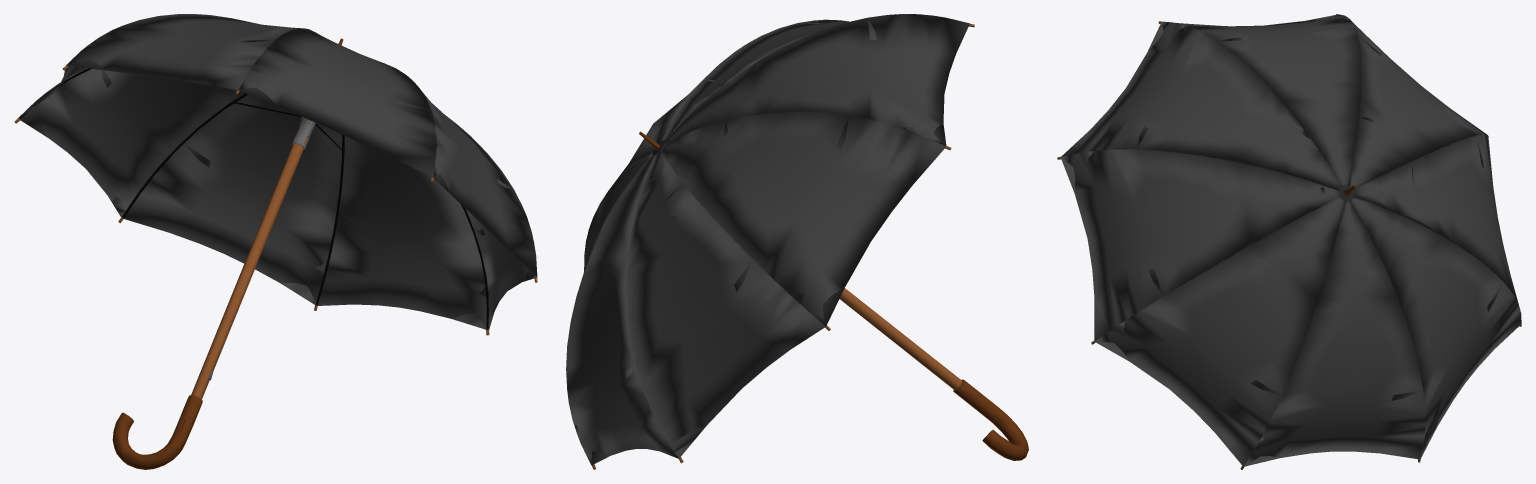
The model's file is ropa_umbrella.glb.
3 renders of one model, left to right at view 1: azimuth 30°, elevation 25°; view 2: azimuth 150°, elevation 25°; view 3: azimuth 270°, elevation 25°, orthographic. The views are drawn at different scales.
Visible parts, largest first — view 1: Circle.002_Material.011_0; view 2: Circle.002_Material.011_0; view 3: Circle.002_Material.011_0.
Boxes of the visible parts, x1=… form: Circle.002_Material.011_0: x1=14, y1=14, x2=537, y2=469; Circle.002_Material.011_0: x1=566, y1=14, x2=1028, y2=469; Circle.002_Material.011_0: x1=1057, y1=14, x2=1521, y2=469.
Size of the model in its own units: 0.8841 by 0.8455 by 1.
